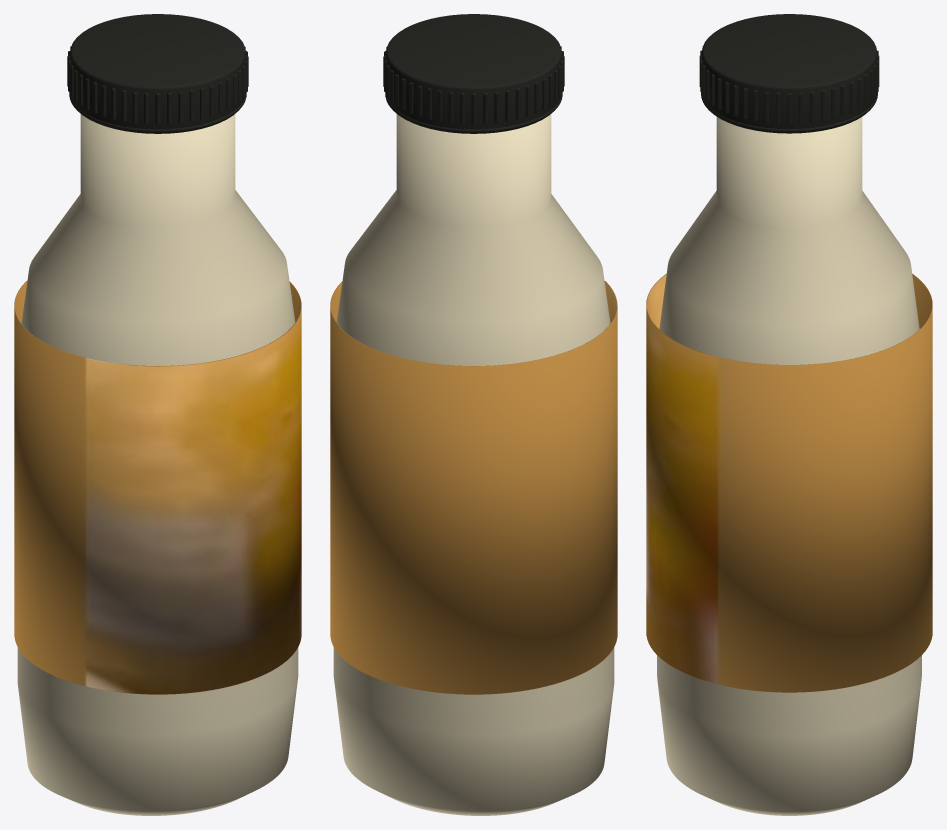
Rendered from fridge_contents__dressing_bottle.glb.
The picture shows the model from 3 angles, left to right: view 1: azimuth 30°, elevation 25°; view 2: azimuth 150°, elevation 25°; view 3: azimuth 270°, elevation 25°; orthographic projection.
Parts seen in each view (by area): view 1: photo paper label, hollow container, removable closure, closure lower bead; view 2: photo paper label, hollow container, removable closure, closure lower bead; view 3: photo paper label, hollow container, removable closure, closure lower bead.
Boxes of the visible parts, x1,y1,x2,y2 form: photo paper label: (14, 280, 301, 694); hollow container: (17, 114, 298, 815); removable closure: (70, 14, 245, 133); closure lower bead: (69, 92, 246, 132); photo paper label: (330, 280, 617, 694); hollow container: (333, 114, 614, 815); removable closure: (386, 14, 561, 133); closure lower bead: (385, 92, 562, 132); photo paper label: (646, 274, 932, 692); hollow container: (657, 117, 921, 815); removable closure: (701, 14, 877, 133); closure lower bead: (701, 92, 877, 132).
Bounding box in the file's own units: 0.0714 × 0.2 × 0.0714.
3 materials, 1 textured.
